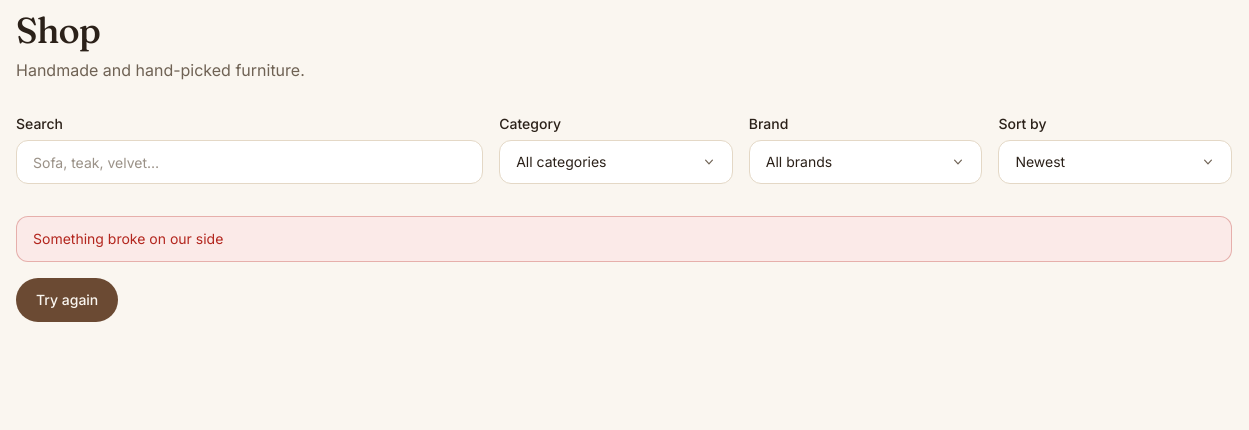
Test: shop page › shows an error with a retry
Check: the message reads "Something broke on our side", box [33,230,223,247]
Click the button "Try again". click: x=67, y=300
box: [16,278,118,322]
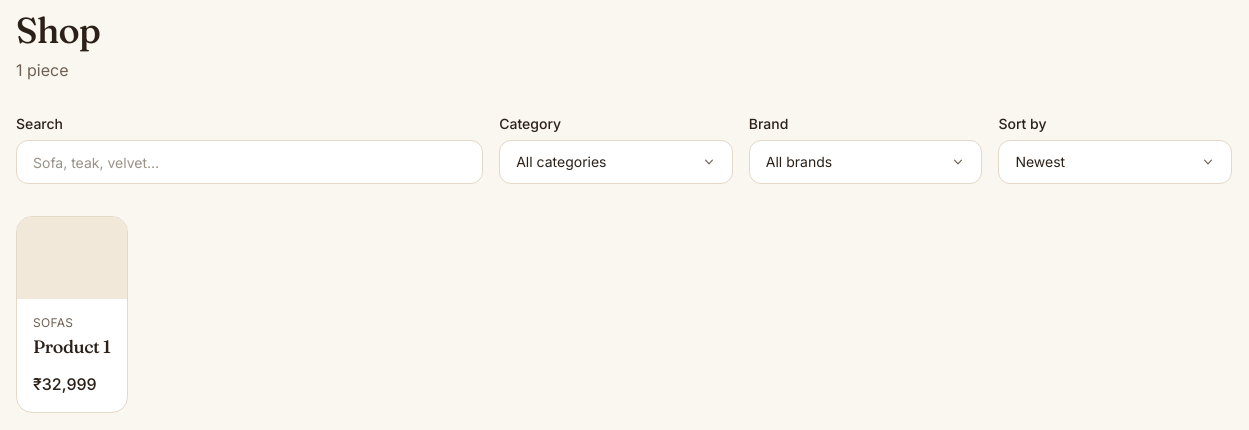
Check: the link "Sofas Product 1 ₹32,999" is shown, box [16,216,128,413]
